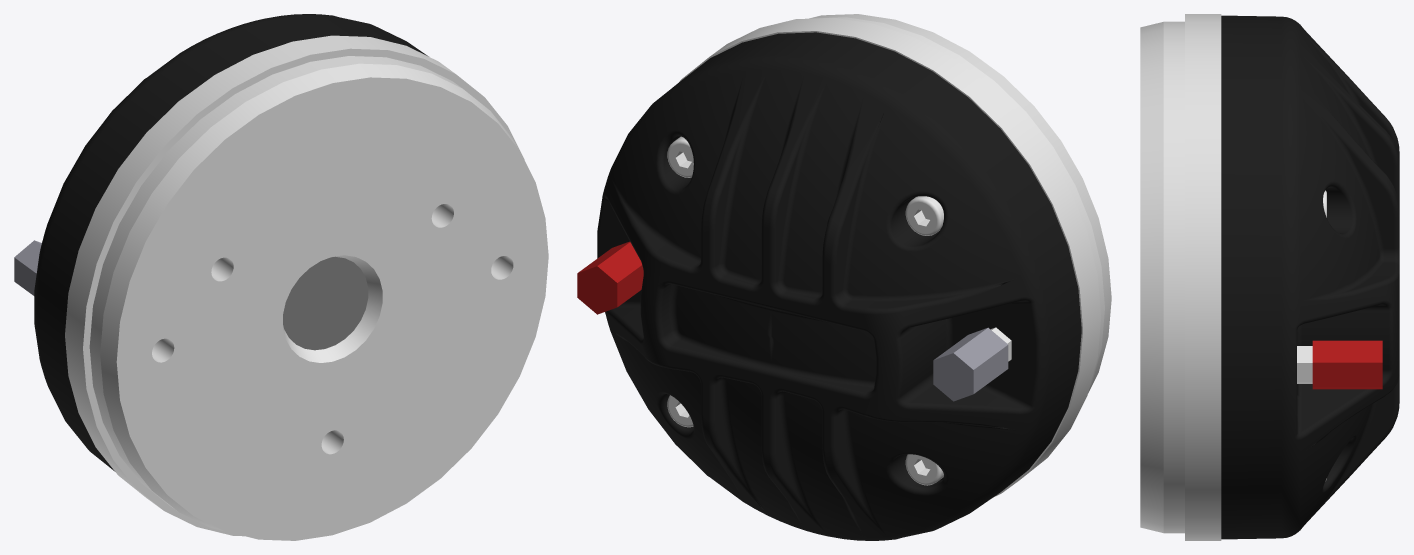
3 views of the same model, side by side, from view 1: azimuth 30°, elevation 25°; view 2: azimuth 150°, elevation 25°; view 3: azimuth 270°, elevation 25° (orthographic).
Parts seen in each view (by area): view 1: B&C DE500; view 2: B&C DE500; view 3: B&C DE500.
Part boxes in pixels (bbox=[...]): B&C DE500: bbox=[14, 14, 548, 540]; B&C DE500: bbox=[577, 14, 1111, 540]; B&C DE500: bbox=[1140, 14, 1399, 540].
Bounding box in the file's own units: 0.102 × 0.102 × 0.05.
